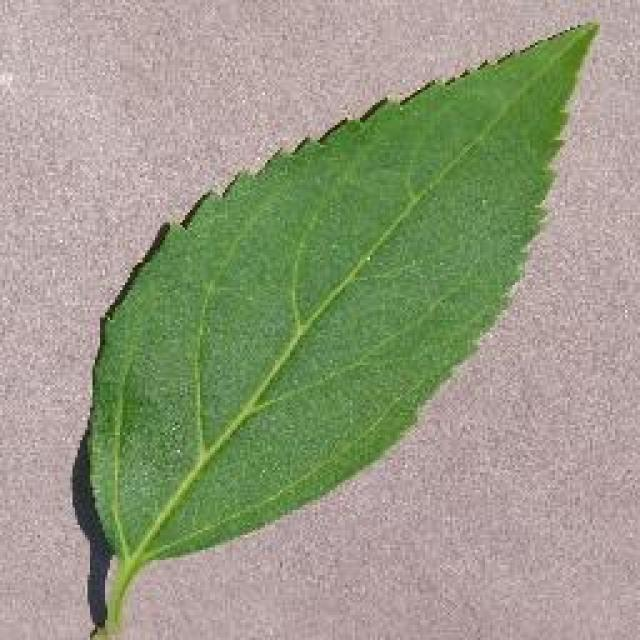Cher_including_sour_healthy: (116, 101, 524, 498)
